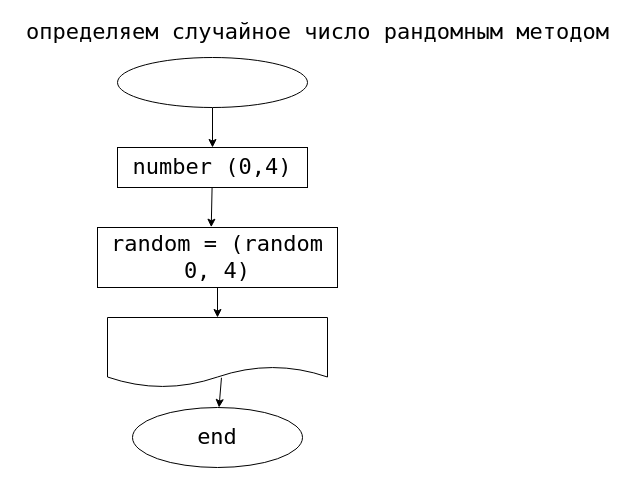
The diagram is 634 pixels wide and 485 high, and some of its shapes have lost their labels. Each missing label, with the box of its shape:
random: (106, 316, 328, 388)
start: (116, 56, 308, 108)
